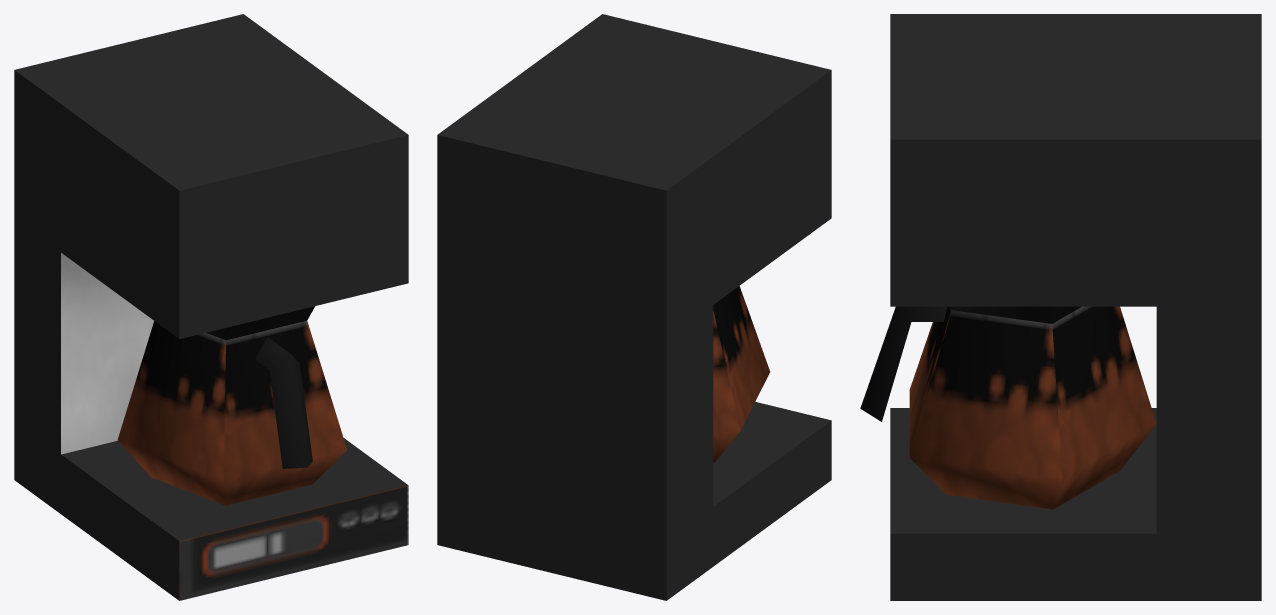
File: CoffeePot.fbx
The picture shows the model from 3 angles, left to right: view 1: azimuth 30°, elevation 25°; view 2: azimuth 150°, elevation 25°; view 3: azimuth 270°, elevation 25°; orthographic projection. The views are drawn at different scales.
Parts seen in each view (by area): view 1: Maya_File_Assets:TexturedAssetsCurrent:QuentonAssets02:Coffe; view 2: Maya_File_Assets:TexturedAssetsCurrent:QuentonAssets02:Coffe; view 3: Maya_File_Assets:TexturedAssetsCurrent:QuentonAssets02:Coffe.
Boxes of the visible parts, x1,y1,x2,y2 form: Maya_File_Assets:TexturedAssetsCurrent:QuentonAssets02:Coffe: (14, 14, 408, 600); Maya_File_Assets:TexturedAssetsCurrent:QuentonAssets02:Coffe: (437, 14, 831, 600); Maya_File_Assets:TexturedAssetsCurrent:QuentonAssets02:Coffe: (860, 14, 1261, 600).
Bounding box in the file's own units: 0.2181 × 0.3731 × 0.2943.
